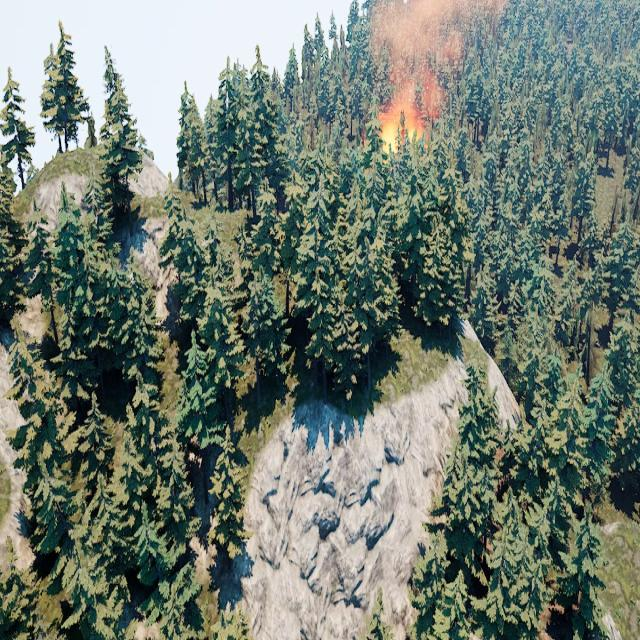fire: (376, 76, 423, 155)
smoke: (370, 0, 509, 117)
